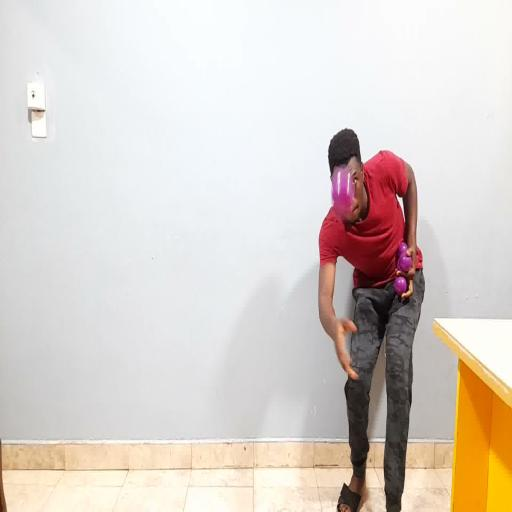plastic-ball: (327, 163, 359, 217)
